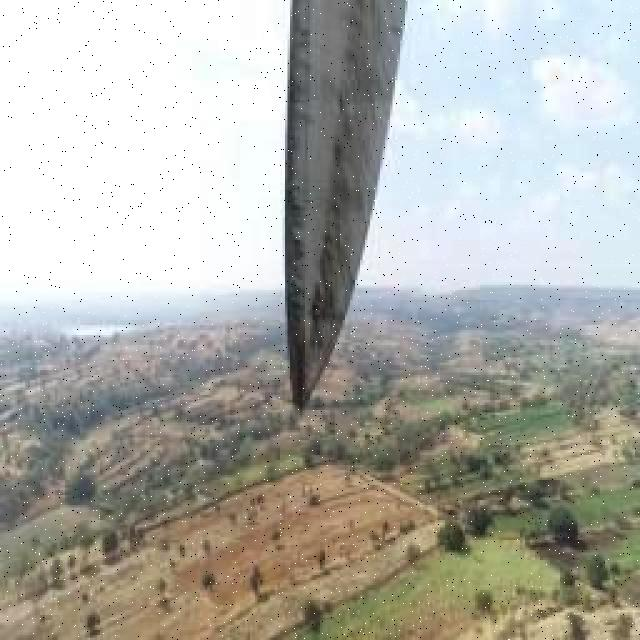Dirt: (285, 0, 410, 410)
